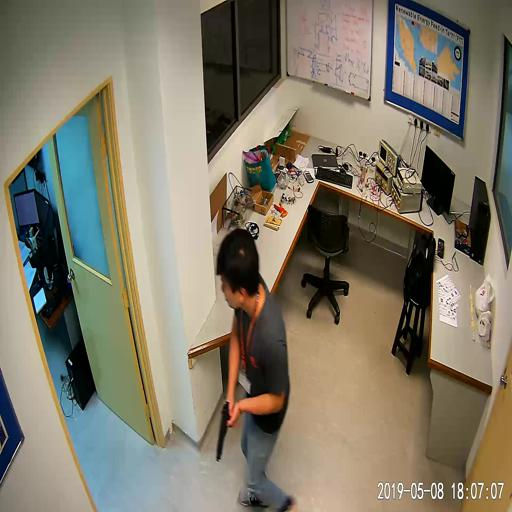pistol: (215, 398, 230, 463)
